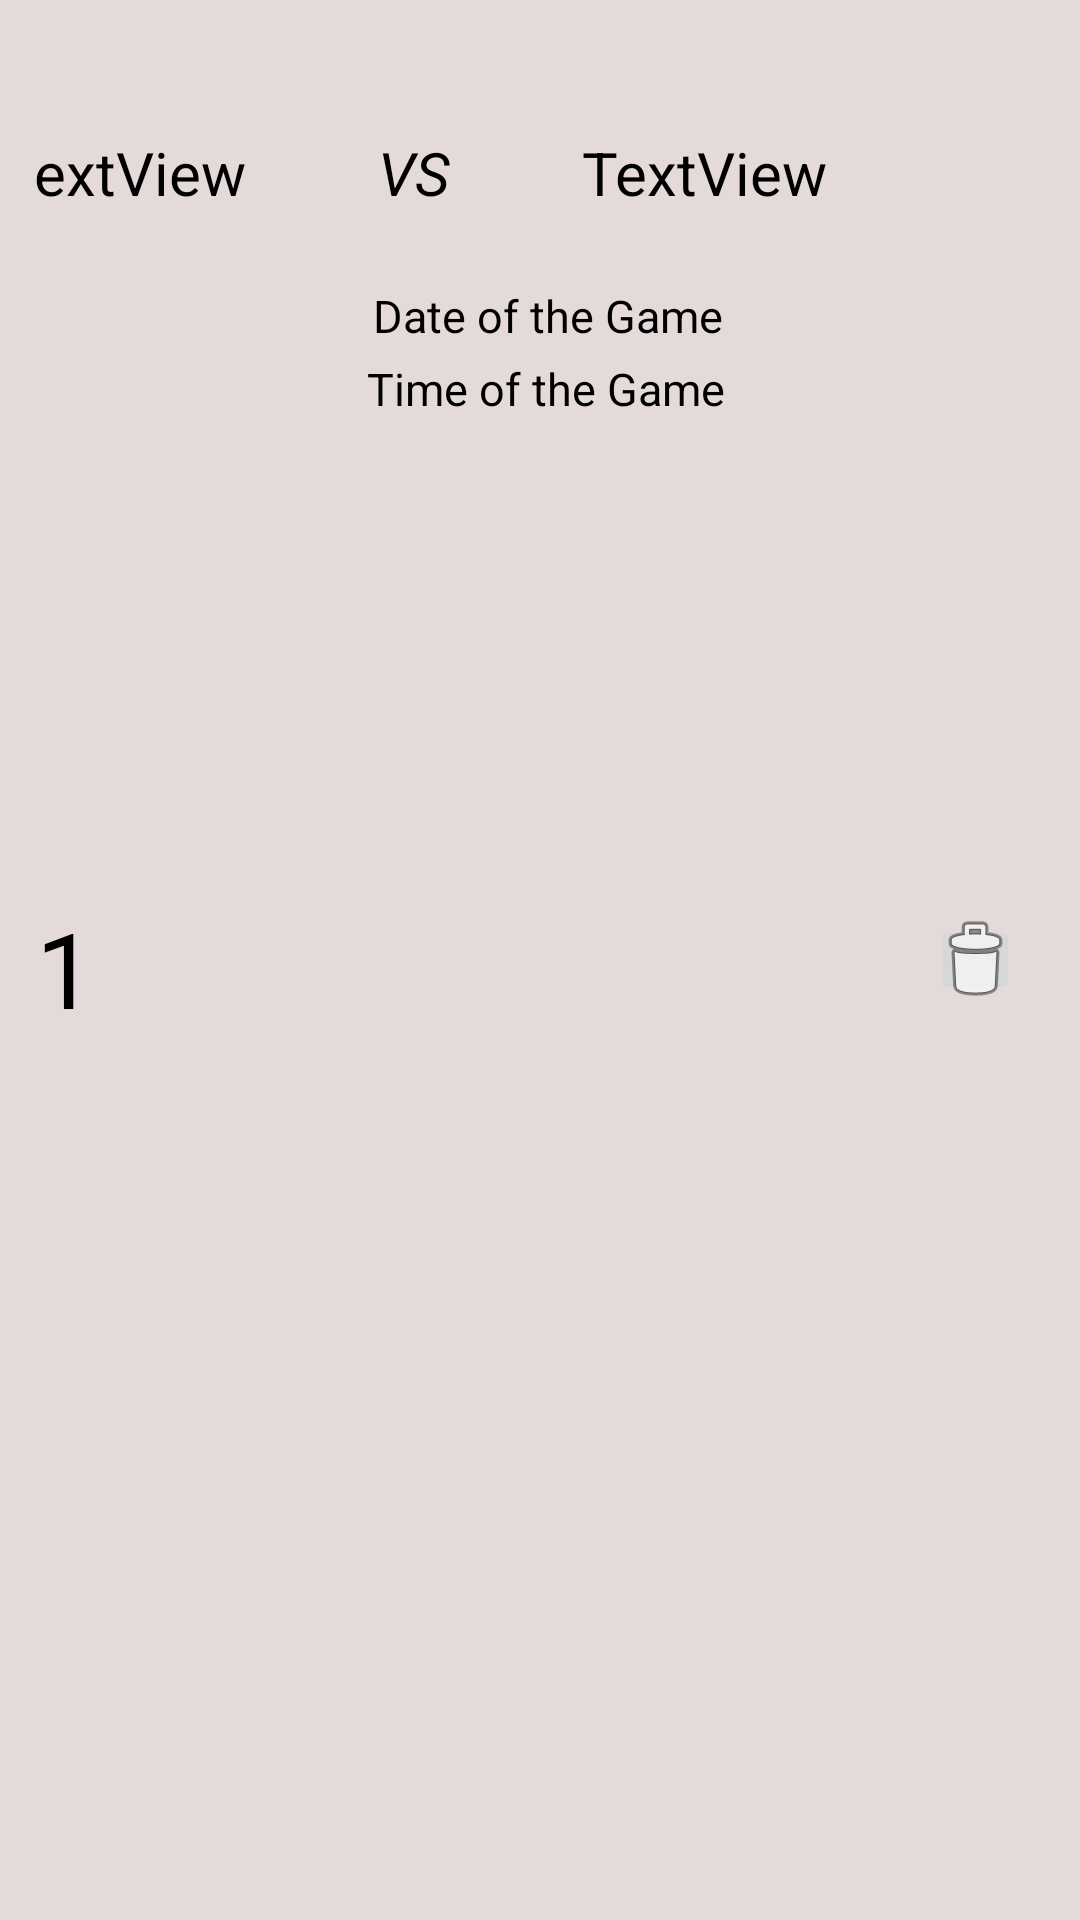

Named icons in this screenshot (1080 x 1920) and their bounding boxes, (x1, y1, x2, y2):
Delete Venue: (942, 921, 1008, 996)
